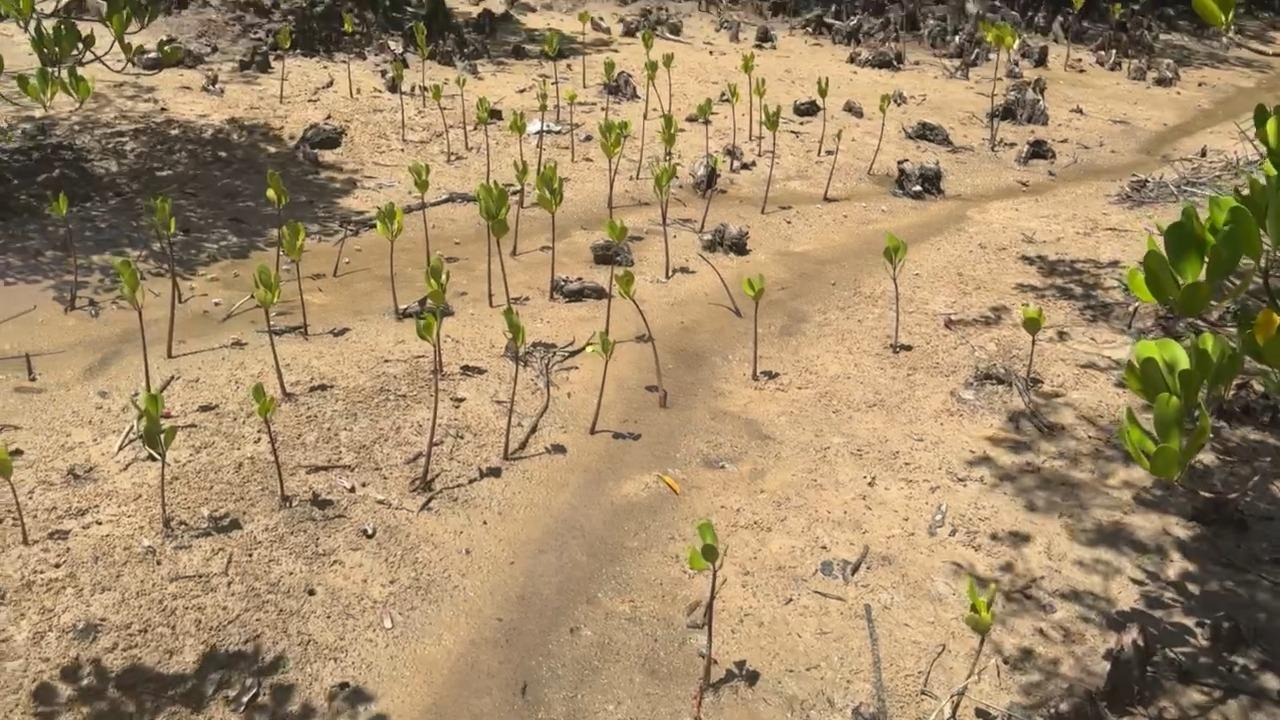Tree: (614, 269, 668, 407), (131, 391, 178, 515), (115, 259, 152, 392), (476, 179, 513, 305), (535, 158, 567, 299), (978, 19, 1015, 140), (414, 312, 439, 483), (473, 95, 493, 306), (254, 264, 286, 395), (685, 517, 729, 612), (252, 380, 287, 497), (46, 191, 80, 309), (146, 198, 183, 303), (502, 306, 526, 461), (154, 196, 177, 356), (648, 155, 677, 280), (585, 328, 617, 434), (962, 576, 998, 665), (281, 219, 309, 333), (881, 230, 907, 350), (424, 252, 450, 369), (0, 442, 28, 544), (377, 202, 402, 311), (605, 218, 627, 336), (407, 162, 432, 264), (266, 167, 289, 272), (743, 272, 765, 378), (597, 119, 619, 222), (658, 114, 679, 219), (606, 120, 630, 208), (411, 21, 435, 109), (762, 104, 781, 212), (645, 61, 667, 154), (717, 82, 740, 169), (1020, 305, 1047, 377), (698, 155, 721, 233), (543, 28, 562, 121), (868, 92, 890, 172), (509, 107, 525, 207), (512, 160, 529, 254), (431, 83, 450, 160), (822, 130, 842, 199), (741, 50, 756, 140), (390, 57, 406, 139), (1065, 0, 1083, 72), (662, 51, 674, 157), (696, 97, 717, 157), (276, 22, 291, 101), (641, 29, 654, 120), (754, 77, 768, 155), (986, 83, 1003, 147), (817, 74, 830, 155), (455, 74, 469, 148), (577, 8, 589, 87), (603, 57, 615, 124), (565, 86, 575, 163), (333, 227, 347, 275), (345, 12, 353, 95), (899, 5, 906, 61), (639, 113, 644, 181), (789, 2, 793, 34)
